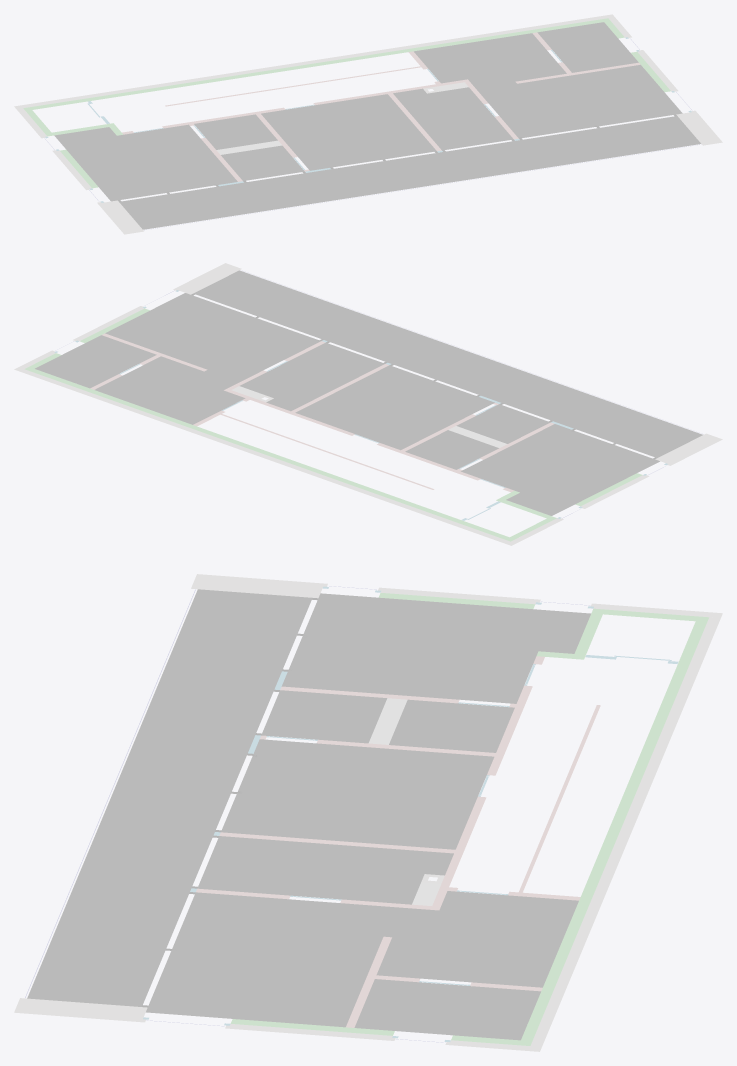
The model's file is floor-496850.glb.
The picture shows the model from 3 angles, top to bottom: view 1: azimuth 30°, elevation 25°; view 2: azimuth 150°, elevation 25°; view 3: azimuth 270°, elevation 25°; orthographic projection. The views are drawn at different scales.
Visible parts, largest first — view 1: SectionBody_21,de89aea8-538b-4391-9850-51a45f310a7d, SectionBody_30,479ffe48-f63f-4cdc-9a29-5ed8d2618c3d, SectionBody_11,158cad23-91ba-4ef1-ae7e-258570cedbbe, SectionBody_16,beefb470-fe1f-400e-a017-4379c297e920, SectionBody_82,dba8de76-29e1-4d64-a096-d0c128a51ff9, SectionBody_87,0297b300-e6d4-4720-a0ce-df3d1cfc16de, SectionBody_0,5cb63768-c57b-4bab-b736-06cb00baeb3b, SectionBody_43,92661b3a-fcdb-42f5-9150-bac843ed632c, SectionBody_29,92661b3a-fcdb-42f5-9150-bac843ed632c, SectionBody_44,882e43d4-1f59-4184-a4f0-7ba0577b3e58, SectionBody_14,54732cdd-1e45-4bc9-8f35-411170b774ea, SectionBody_4,4ecf0550-45c0-4ded-8eb9-6f0e435f92f0 (+9 smaller); view 2: SectionBody_21,de89aea8-538b-4391-9850-51a45f310a7d, SectionBody_30,479ffe48-f63f-4cdc-9a29-5ed8d2618c3d, SectionBody_11,158cad23-91ba-4ef1-ae7e-258570cedbbe, SectionBody_16,beefb470-fe1f-400e-a017-4379c297e920, SectionBody_82,dba8de76-29e1-4d64-a096-d0c128a51ff9, SectionBody_87,0297b300-e6d4-4720-a0ce-df3d1cfc16de, SectionBody_0,5cb63768-c57b-4bab-b736-06cb00baeb3b, SectionBody_43,92661b3a-fcdb-42f5-9150-bac843ed632c, SectionBody_29,92661b3a-fcdb-42f5-9150-bac843ed632c, SectionBody_14,54732cdd-1e45-4bc9-8f35-411170b774ea, SectionBody_44,882e43d4-1f59-4184-a4f0-7ba0577b3e58, SectionBody_4,4ecf0550-45c0-4ded-8eb9-6f0e435f92f0 (+6 smaller); view 3: SectionBody_21,de89aea8-538b-4391-9850-51a45f310a7d, SectionBody_30,479ffe48-f63f-4cdc-9a29-5ed8d2618c3d, SectionBody_11,158cad23-91ba-4ef1-ae7e-258570cedbbe, SectionBody_16,beefb470-fe1f-400e-a017-4379c297e920, SectionBody_82,dba8de76-29e1-4d64-a096-d0c128a51ff9, SectionBody_87,0297b300-e6d4-4720-a0ce-df3d1cfc16de, SectionBody_0,5cb63768-c57b-4bab-b736-06cb00baeb3b, SectionBody_43,92661b3a-fcdb-42f5-9150-bac843ed632c, SectionBody_29,92661b3a-fcdb-42f5-9150-bac843ed632c, SectionBody_14,54732cdd-1e45-4bc9-8f35-411170b774ea, SectionBody_44,882e43d4-1f59-4184-a4f0-7ba0577b3e58, SectionBody_58,aeb265a0-2cff-4c14-8703-f3e4c57c95e6 (+13 smaller).
Part boxes in pixels (x1,y1,x2,y2): SectionBody_21,de89aea8-538b-4391-9850-51a45f310a7d: (119, 116, 700, 229); SectionBody_30,479ffe48-f63f-4cdc-9a29-5ed8d2618c3d: (477, 64, 682, 138); SectionBody_11,158cad23-91ba-4ef1-ae7e-258570cedbbe: (54, 124, 237, 201); SectionBody_16,beefb470-fe1f-400e-a017-4379c297e920: (261, 94, 436, 170); SectionBody_82,dba8de76-29e1-4d64-a096-d0c128a51ff9: (414, 33, 566, 89); SectionBody_87,0297b300-e6d4-4720-a0ce-df3d1cfc16de: (393, 87, 513, 150); SectionBody_0,5cb63768-c57b-4bab-b736-06cb00baeb3b: (537, 22, 638, 72); SectionBody_43,92661b3a-fcdb-42f5-9150-bac843ed632c: (21, 14, 614, 108); SectionBody_29,92661b3a-fcdb-42f5-9150-bac843ed632c: (30, 18, 610, 109); SectionBody_44,882e43d4-1f59-4184-a4f0-7ba0577b3e58: (194, 114, 277, 149); SectionBody_14,54732cdd-1e45-4bc9-8f35-411170b774ea: (221, 145, 304, 180); SectionBody_4,4ecf0550-45c0-4ded-8eb9-6f0e435f92f0: (122, 80, 464, 134); SectionBody_21,de89aea8-538b-4391-9850-51a45f310a7d: (193, 270, 702, 457); SectionBody_30,479ffe48-f63f-4cdc-9a29-5ed8d2618c3d: (105, 293, 320, 381); SectionBody_11,158cad23-91ba-4ef1-ae7e-258570cedbbe: (461, 424, 659, 515); SectionBody_16,beefb470-fe1f-400e-a017-4379c297e920: (295, 365, 494, 450); SectionBody_82,dba8de76-29e1-4d64-a096-d0c128a51ff9: (95, 356, 245, 424); SectionBody_87,0297b300-e6d4-4720-a0ce-df3d1cfc16de: (240, 342, 384, 411); SectionBody_0,5cb63768-c57b-4bab-b736-06cb00baeb3b: (35, 335, 156, 388); SectionBody_43,92661b3a-fcdb-42f5-9150-bac843ed632c: (14, 367, 509, 543); SectionBody_29,92661b3a-fcdb-42f5-9150-bac843ed632c: (24, 367, 509, 539); SectionBody_14,54732cdd-1e45-4bc9-8f35-411170b774ea: (456, 404, 550, 443); SectionBody_44,882e43d4-1f59-4184-a4f0-7ba0577b3e58: (405, 430, 498, 469); SectionBody_4,4ecf0550-45c0-4ded-8eb9-6f0e435f92f0: (228, 390, 514, 492); SectionBody_21,de89aea8-538b-4391-9850-51a45f310a7d: (27, 589, 312, 1006); SectionBody_30,479ffe48-f63f-4cdc-9a29-5ed8d2618c3d: (146, 892, 395, 1027); SectionBody_11,158cad23-91ba-4ef1-ae7e-258570cedbbe: (281, 593, 590, 703); SectionBody_16,beefb470-fe1f-400e-a017-4379c297e920: (221, 739, 494, 849); SectionBody_82,dba8de76-29e1-4d64-a096-d0c128a51ff9: (376, 891, 578, 987); SectionBody_87,0297b300-e6d4-4720-a0ce-df3d1cfc16de: (197, 836, 453, 904); SectionBody_0,5cb63768-c57b-4bab-b736-06cb00baeb3b: (354, 979, 540, 1040); SectionBody_43,92661b3a-fcdb-42f5-9150-bac843ed632c: (528, 617, 720, 1051); SectionBody_29,92661b3a-fcdb-42f5-9150-bac843ed632c: (519, 621, 706, 1045); SectionBody_14,54732cdd-1e45-4bc9-8f35-411170b774ea: (261, 690, 387, 743); SectionBody_44,882e43d4-1f59-4184-a4f0-7ba0577b3e58: (389, 699, 514, 752); SectionBody_58,aeb265a0-2cff-4c14-8703-f3e4c57c95e6: (14, 998, 147, 1022).
Size of the model in its own units: 19203 by 0 by 12040.
